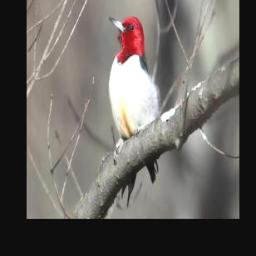Woodpecker: (106, 15, 162, 211)
